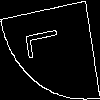L: (25, 25, 68, 60)
